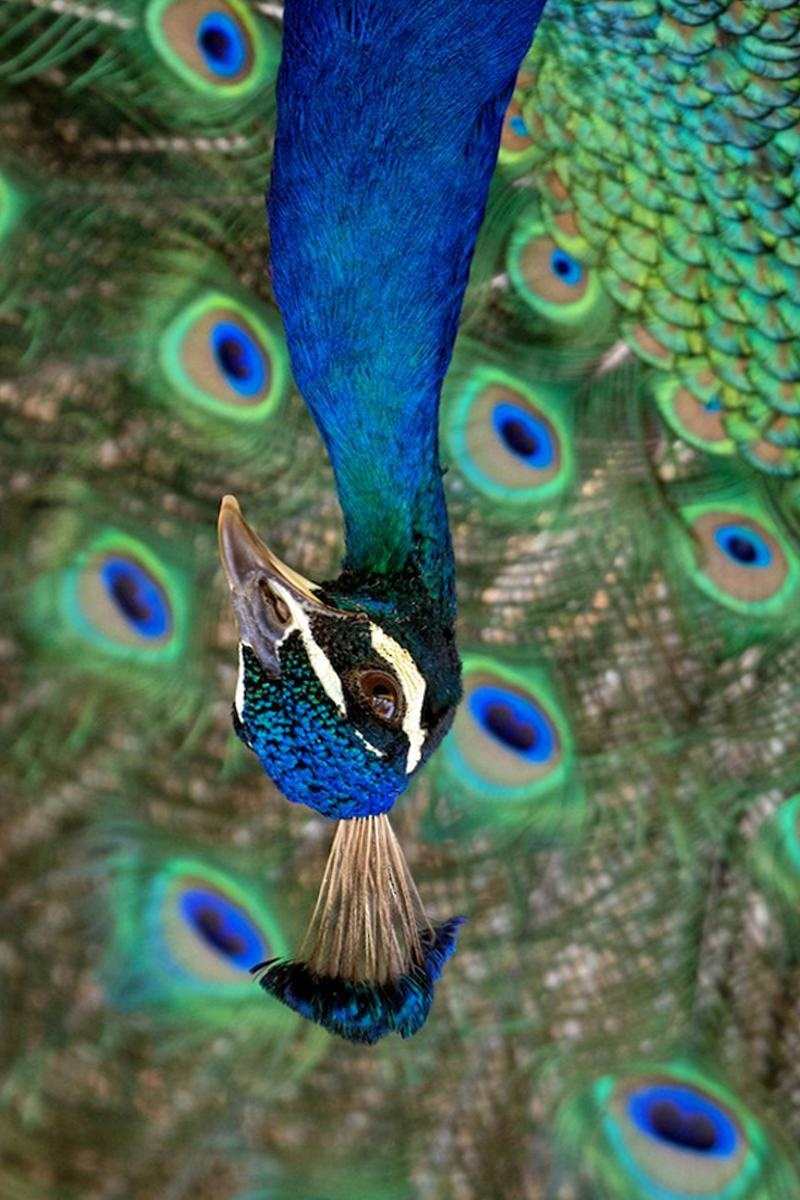peacock: (1, 1, 726, 1130)
